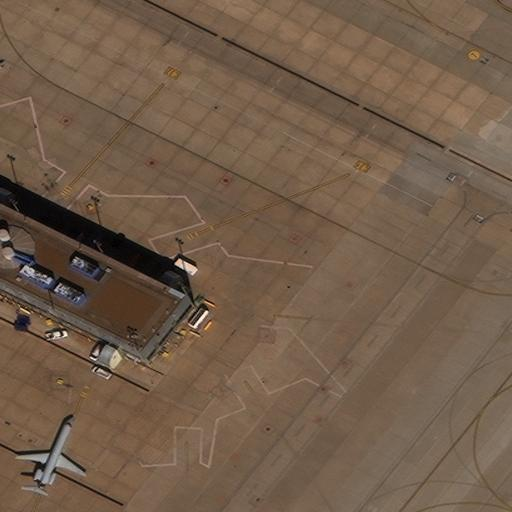Medium Civil Transport: (16, 414, 86, 494)
